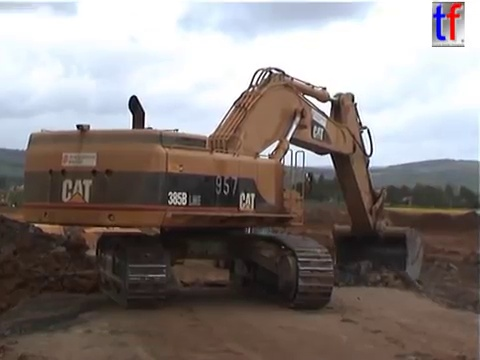excavator: (17, 63, 428, 314)
truck: (1, 214, 145, 340), (75, 223, 159, 296)
